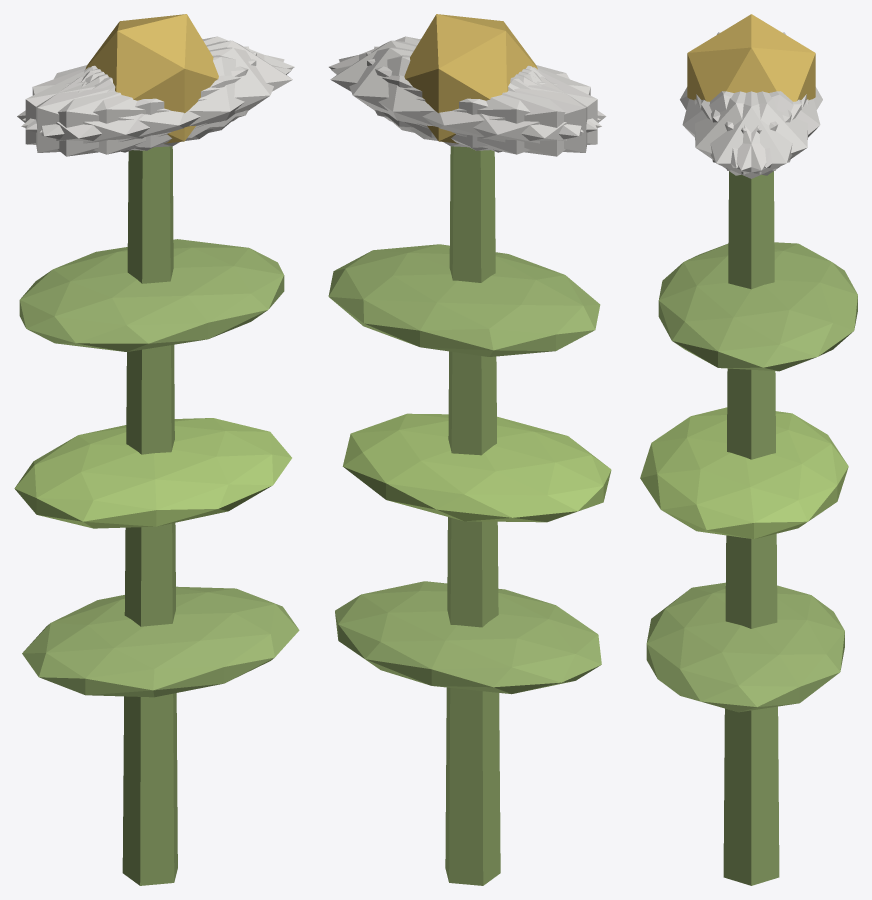
File: gmelina-arborea.glb
The picture shows the model from 3 angles, left to right: view 1: azimuth 30°, elevation 25°; view 2: azimuth 150°, elevation 25°; view 3: azimuth 270°, elevation 25°; orthographic projection.
Visible parts, largest first — view 1: stem, leaf1, leaf0, leaf2, center, petal1, petal6, petal2, petal5, petal7, petal0, petal4 (+2 smaller); view 2: stem, leaf2, leaf1, leaf0, center, petal8, petal3, petal7, petal4, petal2, petal0, petal5 (+2 smaller); view 3: stem, leaf2, leaf1, leaf0, center, petal0, petal4, petal5, petal8, petal1.
Boxes of the visible parts, x1=… form: stem: x1=122, y1=146, x2=177, y2=885; leaf1: x1=14, y1=418, x2=291, y2=528; leaf0: x1=22, y1=586, x2=299, y2=697; leaf2: x1=19, y1=239, x2=284, y2=351; center: x1=85, y1=14, x2=218, y2=143; petal1: x1=21, y1=55, x2=291, y2=154; petal6: x1=17, y1=67, x2=212, y2=156; petal2: x1=36, y1=46, x2=249, y2=152; petal5: x1=39, y1=47, x2=284, y2=147; petal7: x1=25, y1=52, x2=256, y2=150; petal0: x1=85, y1=40, x2=292, y2=138; petal4: x1=22, y1=36, x2=294, y2=129; stem: x1=445, y1=146, x2=500, y2=885; leaf2: x1=328, y1=244, x2=600, y2=356; leaf1: x1=342, y1=413, x2=611, y2=522; leaf0: x1=335, y1=581, x2=601, y2=694; center: x1=404, y1=14, x2=537, y2=143; petal8: x1=331, y1=55, x2=601, y2=154; petal3: x1=410, y1=67, x2=606, y2=156; petal7: x1=374, y1=46, x2=587, y2=152; petal4: x1=339, y1=47, x2=583, y2=147; petal2: x1=366, y1=52, x2=597, y2=150; petal0: x1=330, y1=40, x2=537, y2=138; petal5: x1=329, y1=36, x2=600, y2=129; stem: x1=723, y1=171, x2=779, y2=885; leaf2: x1=658, y1=242, x2=857, y2=371; leaf1: x1=640, y1=407, x2=848, y2=539; leaf0: x1=646, y1=582, x2=844, y2=712; center: x1=687, y1=14, x2=815, y2=101; petal0: x1=696, y1=91, x2=806, y2=178; petal4: x1=701, y1=91, x2=808, y2=175; petal5: x1=694, y1=91, x2=801, y2=175; petal8: x1=711, y1=91, x2=820, y2=168; petal1: x1=682, y1=91, x2=791, y2=168.
Bounding box in the file's own units: 0.1452 × 0.4434 × 0.1039.
